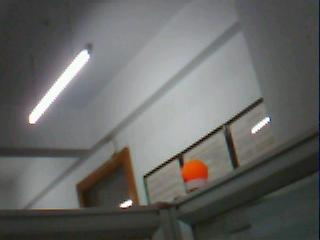oball: (182, 159, 208, 181)
